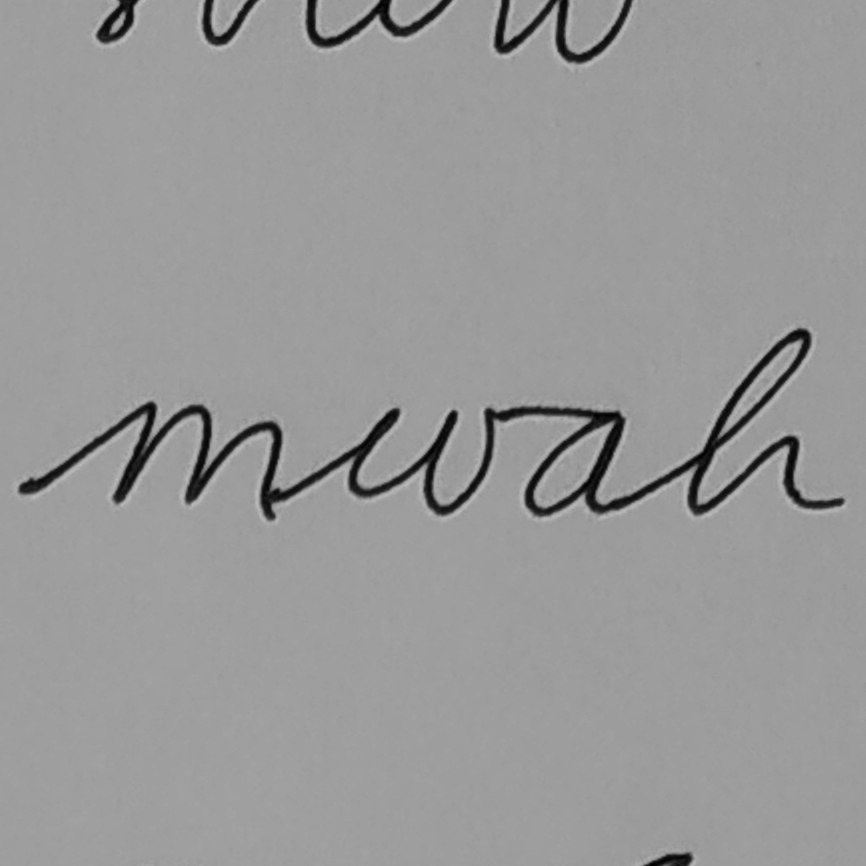a: (519, 404, 639, 521)
h: (681, 324, 848, 518)
m: (106, 396, 287, 529)
w: (343, 400, 499, 520)
